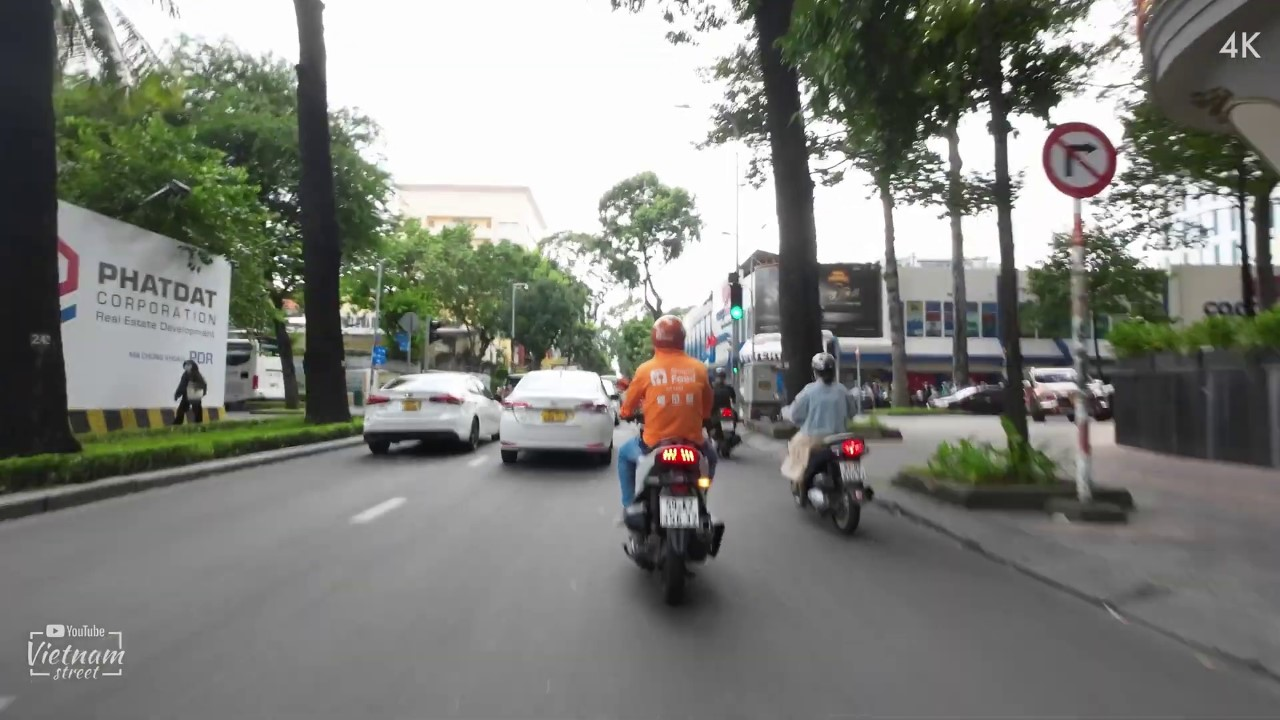cam_re_phai: (1040, 118, 1119, 199)
